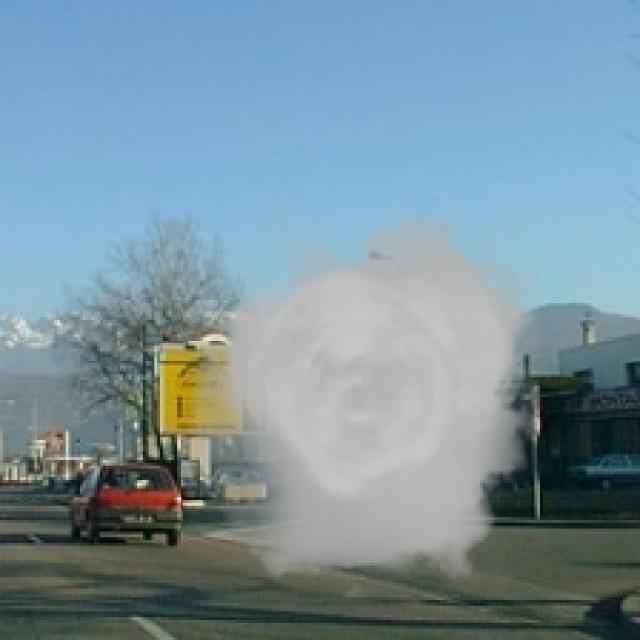smoke: (189, 203, 540, 597)
